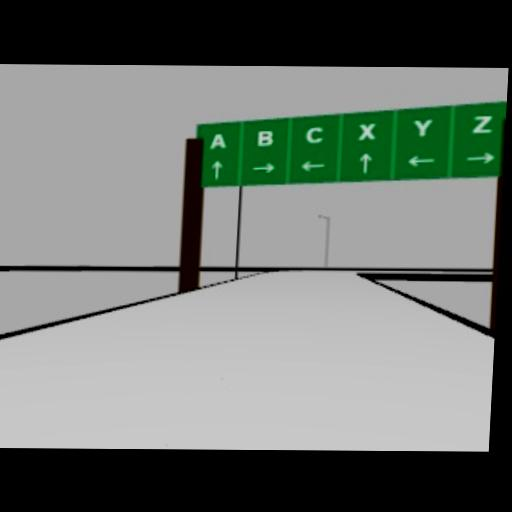A: (208, 132, 226, 149)
B: (255, 129, 273, 147)
C: (304, 125, 323, 143)
Left: (404, 155, 435, 168), (299, 160, 324, 172)
Right: (466, 152, 494, 164), (251, 161, 274, 173)
Straight: (358, 152, 372, 174), (210, 160, 223, 180)
X: (356, 122, 377, 139)
Y: (411, 119, 432, 137)
Z: (471, 113, 495, 133)
